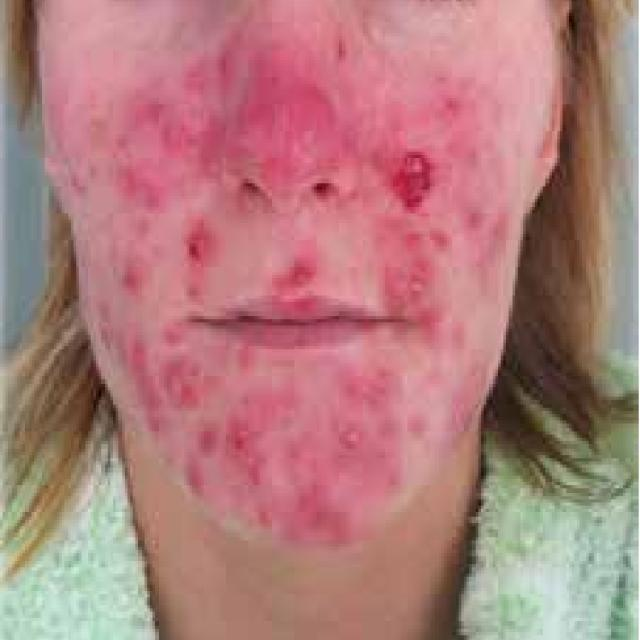Rosacea: (68, 48, 507, 538)
